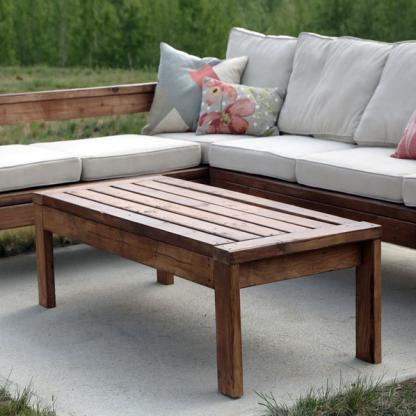table: (26, 171, 388, 401)
